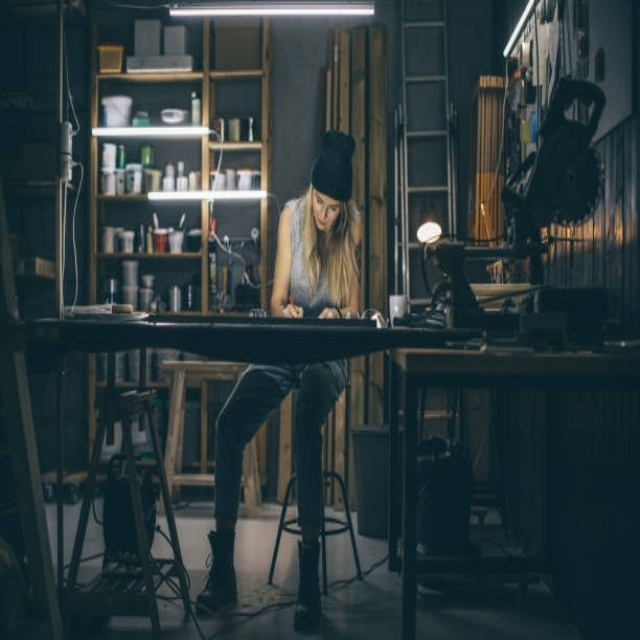Sin_gafas: (313, 191, 341, 216)
Sin_mascara: (314, 216, 328, 230)
